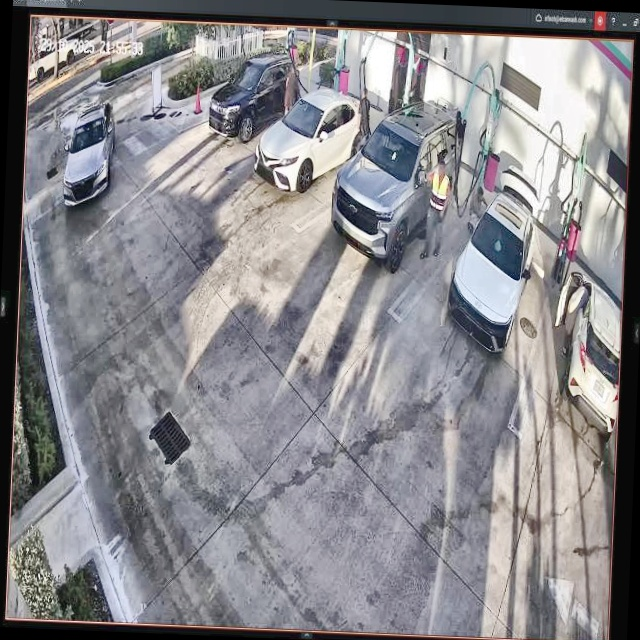Car: (326, 98, 463, 268), (448, 167, 540, 353), (254, 87, 371, 196)
